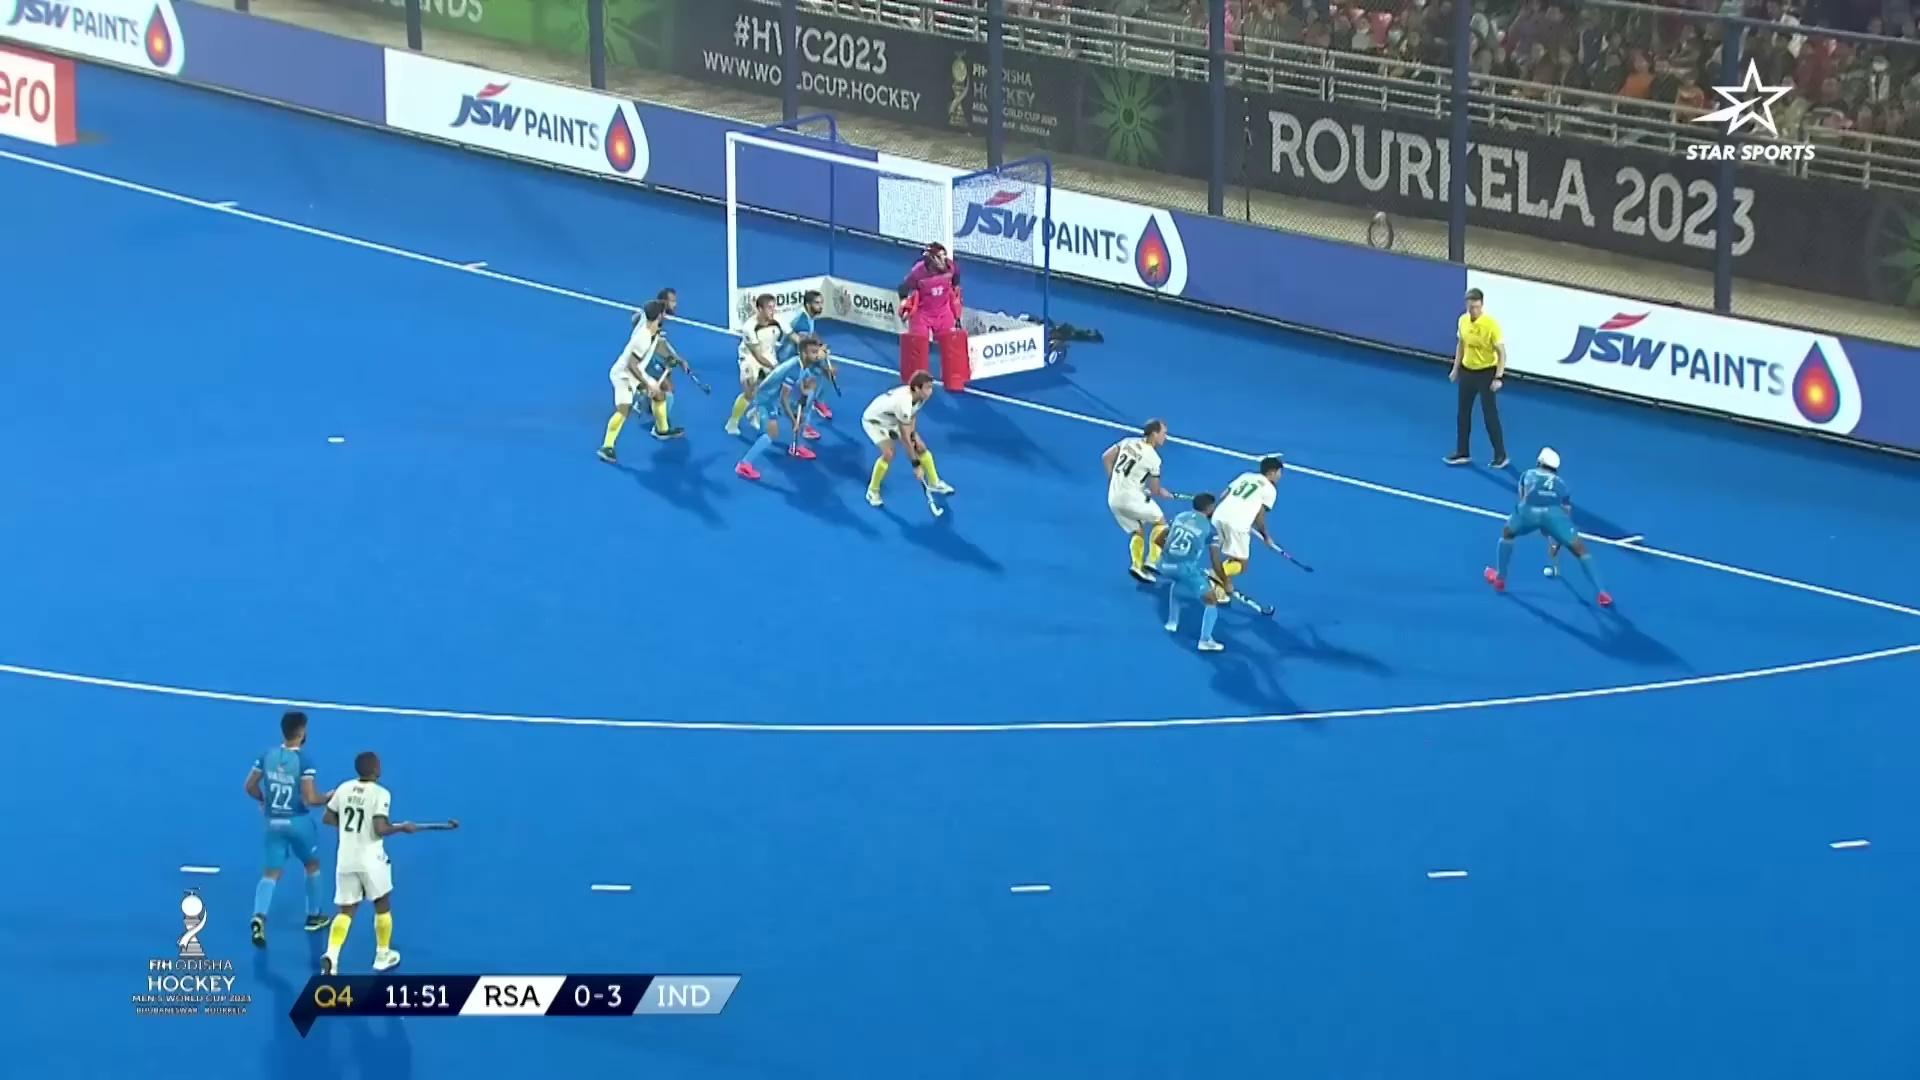ball: (1538, 546, 1563, 587)
